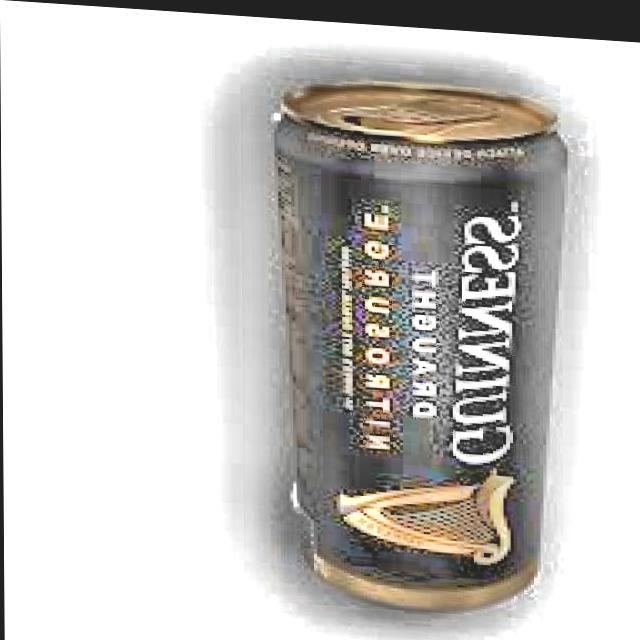litter: (266, 61, 578, 623)
